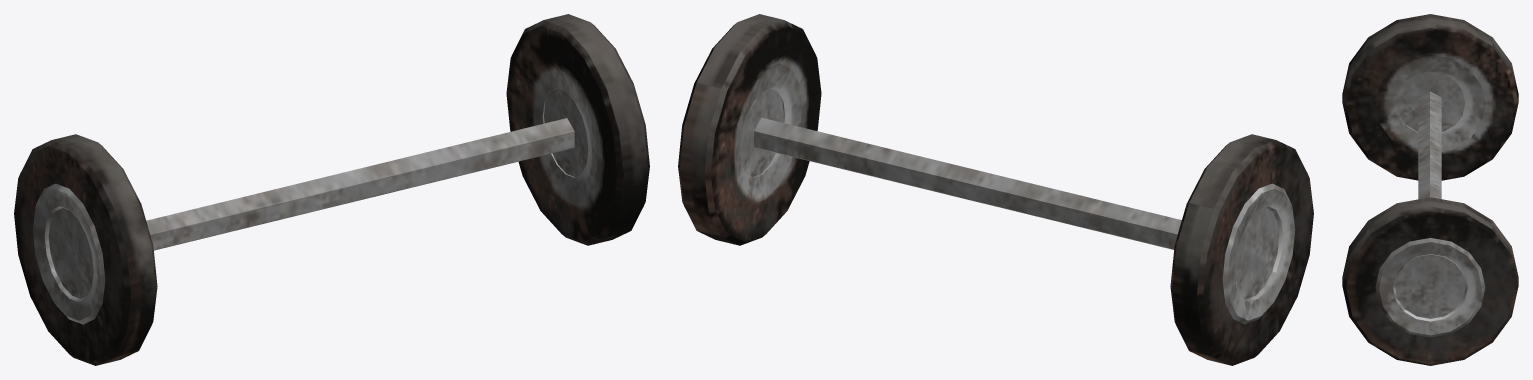
The model's file is Wheels.fbx.
3 views of the same model, side by side, from view 1: azimuth 30°, elevation 25°; view 2: azimuth 150°, elevation 25°; view 3: azimuth 270°, elevation 25° (orthographic). The views are drawn at different scales.
Visible parts, largest first — view 1: Wheels; view 2: Wheels; view 3: Wheels.
Part boxes in pixels (x1=…): Wheels: x1=14, y1=14, x2=649, y2=365; Wheels: x1=678, y1=14, x2=1313, y2=365; Wheels: x1=1342, y1=14, x2=1518, y2=365.
Bounding box in the file's own units: 58.81 × 22.16 × 22.16.
Materials: 1 (1 with a texture image).
